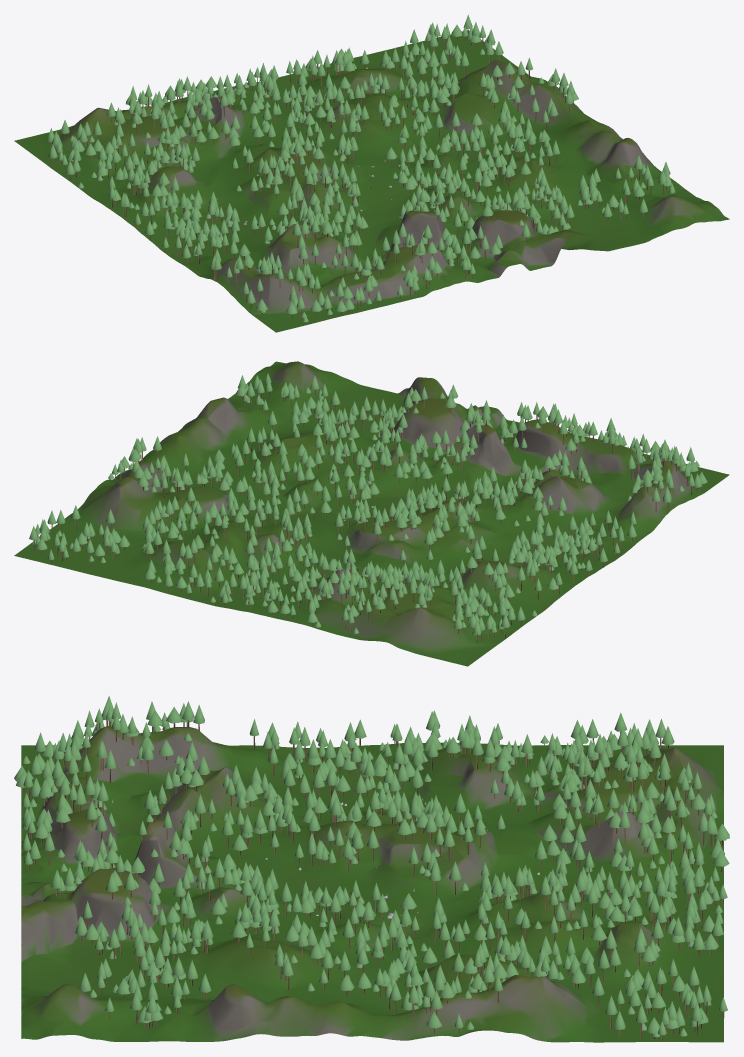
The model's file is forest.glb.
3 renders of one model, top to bottom at view 1: azimuth 30°, elevation 25°; view 2: azimuth 150°, elevation 25°; view 3: azimuth 270°, elevation 25°, orthographic. The views are drawn at different scales.
Parts seen in each view (by area): view 1: Terrain; view 2: Terrain; view 3: Terrain.
Part boxes in pixels (x1,y1,x2,y2): Terrain: (14,30,729,332); Terrain: (14,361,729,666); Terrain: (21,726,723,1042).
Bounding box in the file's own units: 512 × 70.99 × 514.
